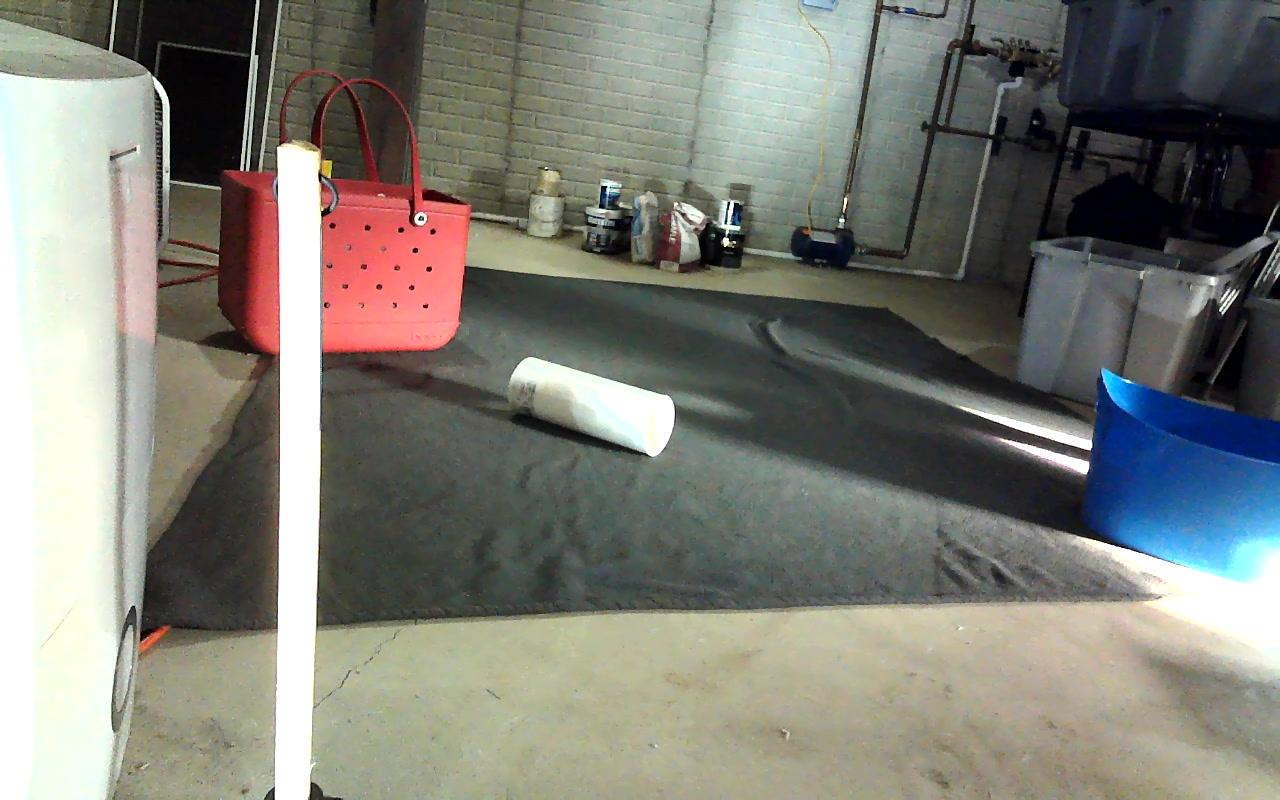coral: (507, 356, 674, 455)
